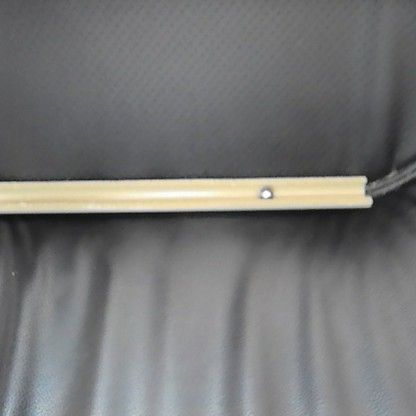ironball: (257, 184, 273, 200)
